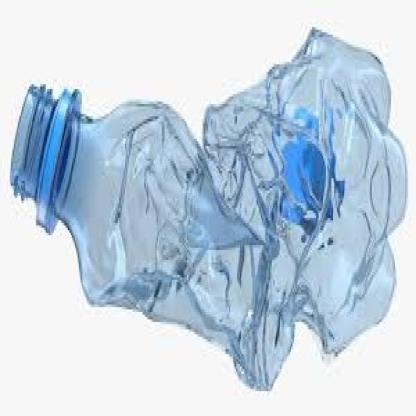Plastic Bottle: (8, 26, 408, 390), (201, 26, 407, 360)
